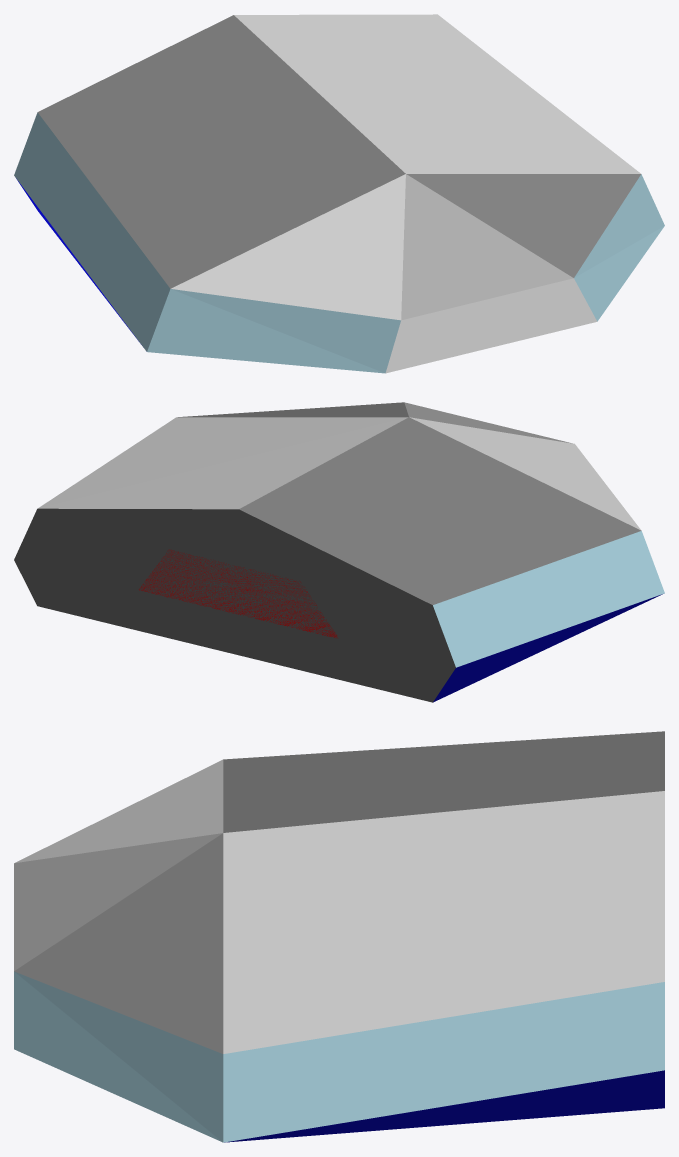
File: transporter.obj
3 renders of one model, top to bottom at view 1: azimuth 30°, elevation 25°; view 2: azimuth 150°, elevation 25°; view 3: azimuth 270°, elevation 25°, orthographic. The views are drawn at different scales.
Bounding box in the file's own units: 66 × 18 × 56.
